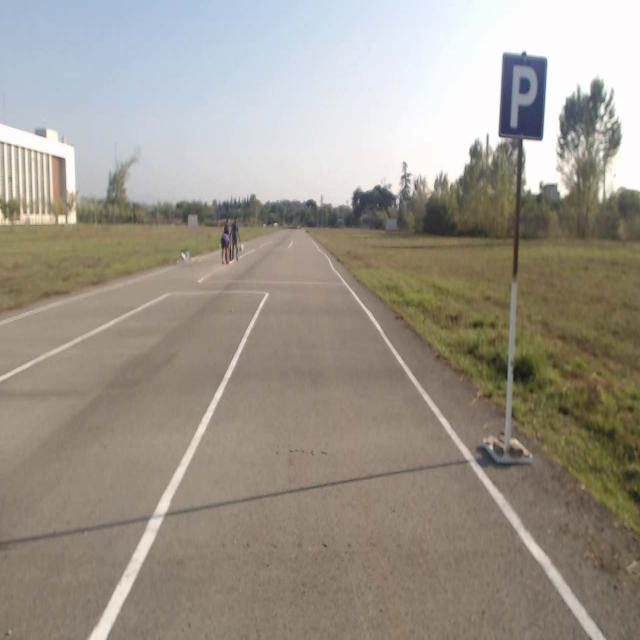park: (501, 52, 543, 140)
